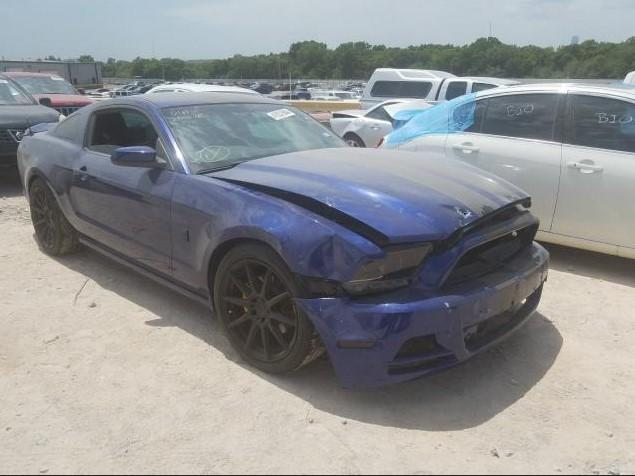Back-wheel: (30, 179, 80, 255)
Back-window: (54, 114, 83, 140)
Fender: (172, 172, 384, 297)
Front-bumper: (308, 241, 550, 390)
Front-door: (69, 105, 175, 278)
Front-wheel: (214, 241, 326, 373)
Front-window: (84, 107, 157, 155)
Grille: (412, 211, 539, 288)
Headlight: (343, 246, 432, 296)
Hood: (204, 147, 531, 242)
License-plate: (497, 263, 540, 310)
Mirror: (111, 145, 166, 169)
Quarter-panel: (18, 136, 86, 235)
Rocker-panel: (79, 236, 213, 310)
Roof: (143, 91, 291, 109)
Trunk: (24, 123, 58, 136)
Windshield: (160, 103, 348, 175)
